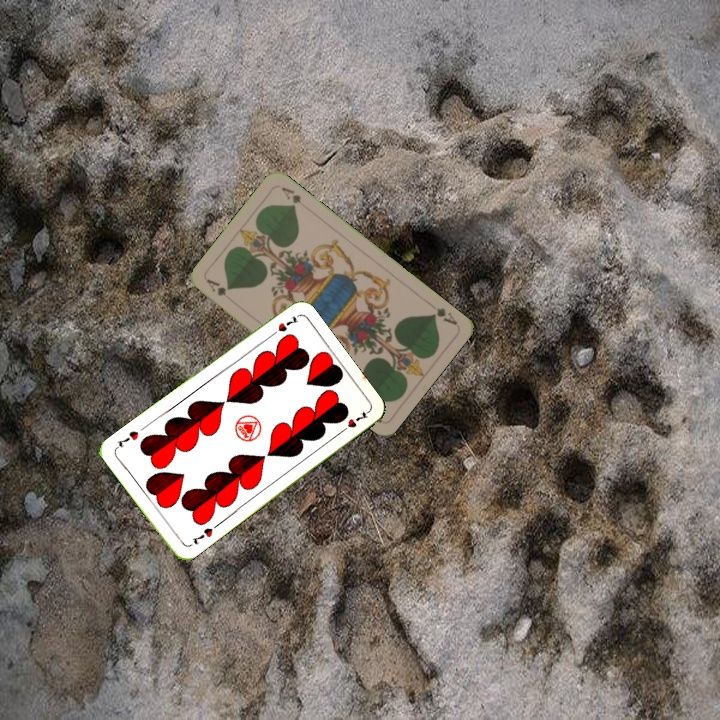GA: (427, 303, 460, 328), (202, 275, 229, 299)
H7: (265, 312, 301, 340), (188, 524, 215, 547)
